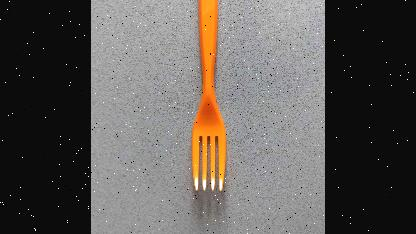Others: (191, 0, 228, 194)
